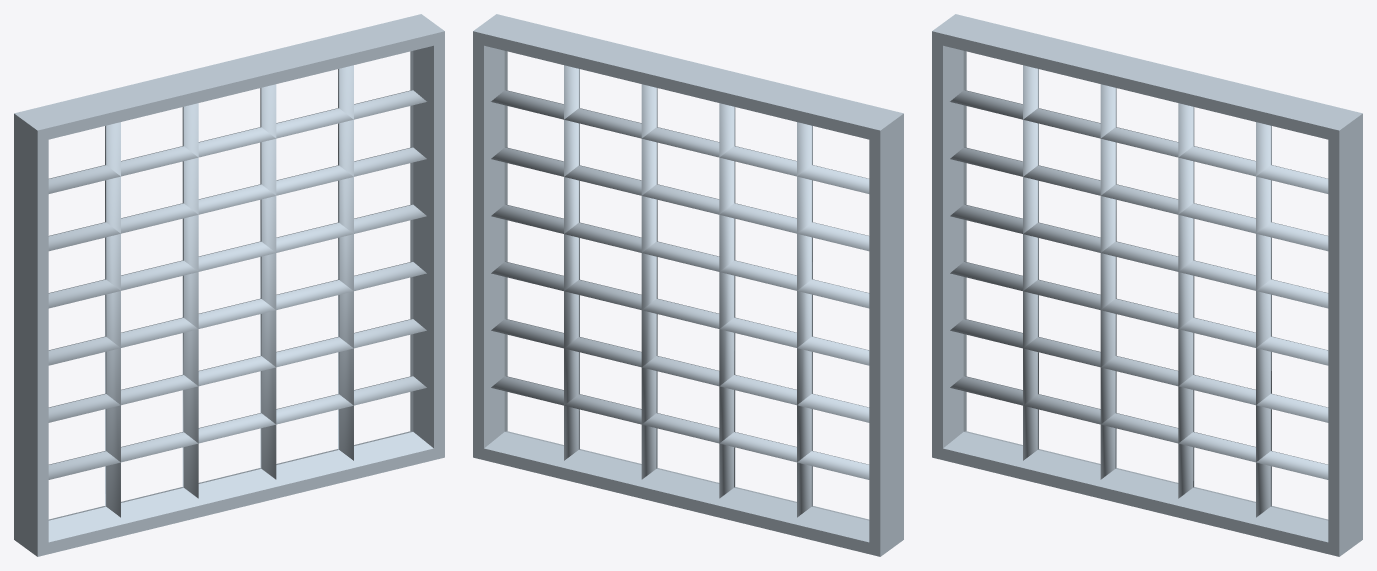
The picture shows the model from 3 angles, left to right: view 1: azimuth 30°, elevation 25°; view 2: azimuth 150°, elevation 25°; view 3: azimuth 330°, elevation 25°; orthographic projection.
Visible parts, largest first — view 1: grid.2; view 2: grid.2; view 3: grid.2.
Part boxes in pixels (x1,y1,x2,y2): grid.2: [14, 14, 444, 556]; grid.2: [473, 14, 903, 556]; grid.2: [932, 14, 1362, 556].
Size of the model in its own units: 200 by 200 by 20.
